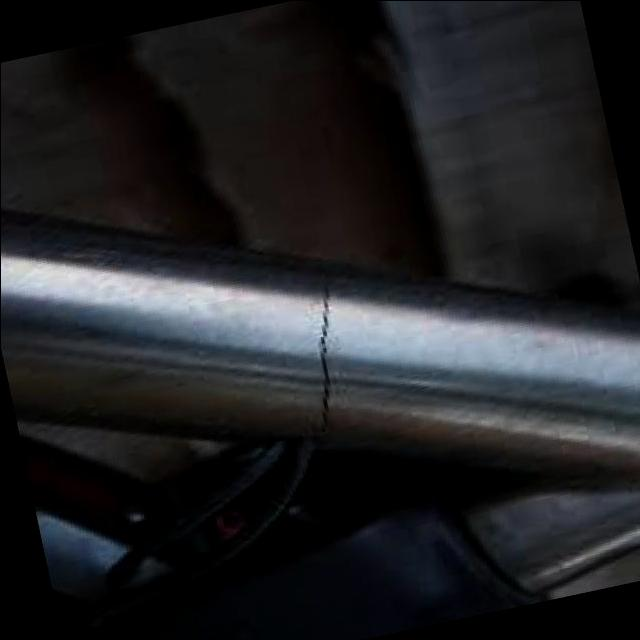defect: (315, 276, 336, 437)
